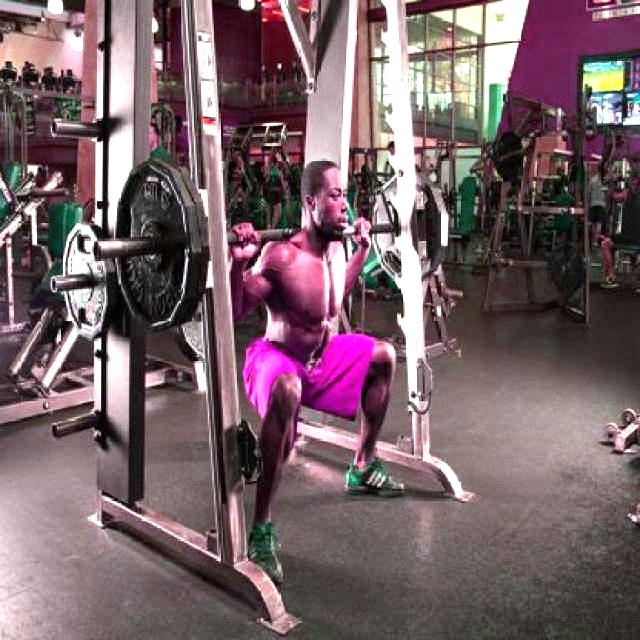barbell: (91, 153, 192, 334), (49, 213, 106, 342)
